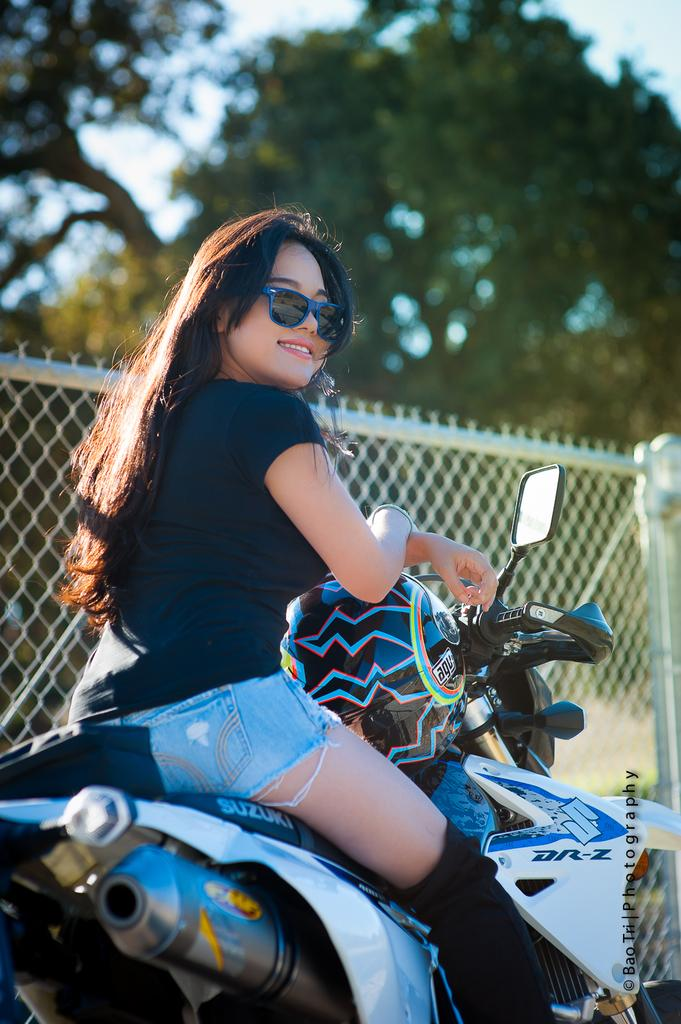helmet: (280, 567, 468, 779)
nohelmet: (183, 209, 350, 399)
